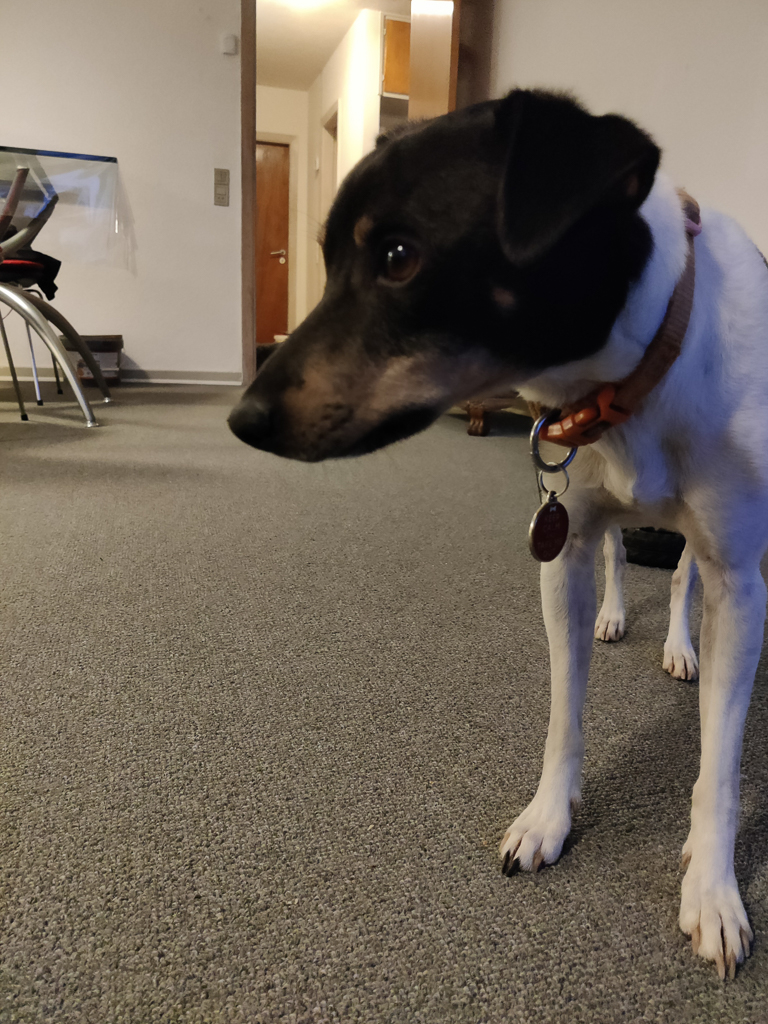Dog: (203, 67, 768, 991)
